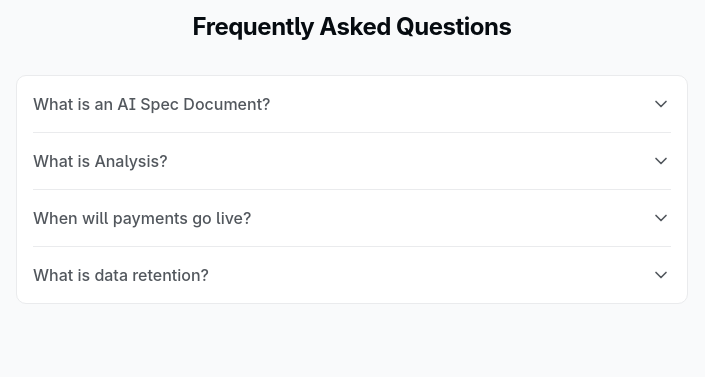
PricingFaq › closes previously open item when another item is clicked
Click the button "What is an AI Spec Document?": (152, 104) [33,76,671,132]
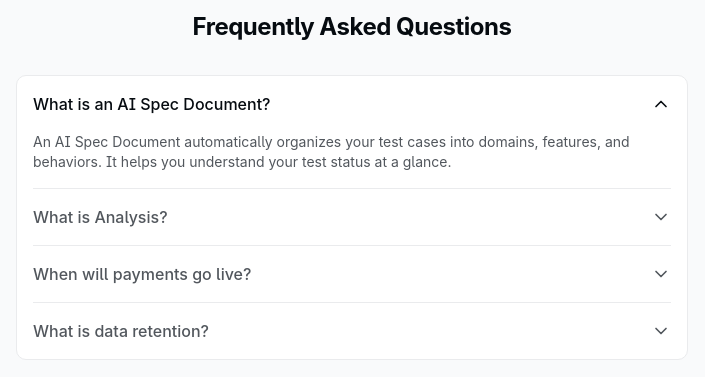
Expected: the button "What is an AI Spec Document?" is expanded, [33,76,671,132]
Click the button "What is Analysis?": (100, 217) [33,189,671,245]
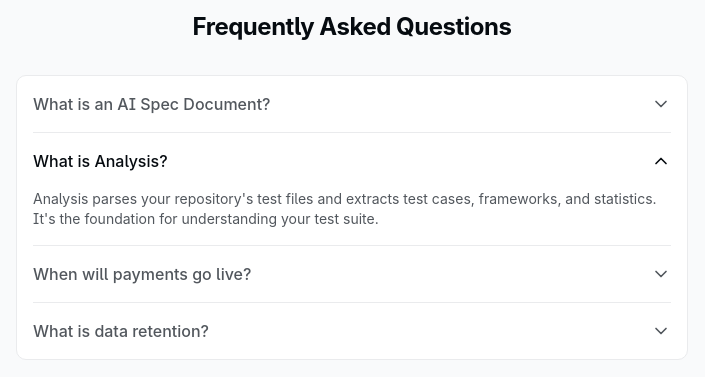
Expected: the button "What is an AI Spec Document?" is collapsed, [33,76,671,132]
Expected: the button "What is Analysis?" is expanded, [33,133,671,189]
Expected: the text "parses your repository's test files" is shown, [33,190,657,227]
